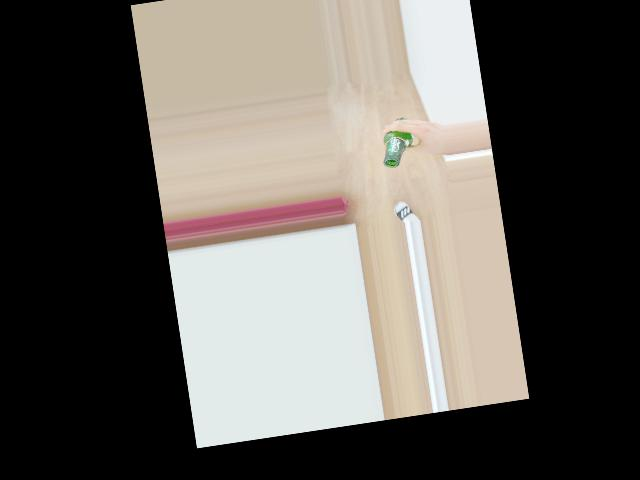beer: (377, 116, 417, 169)
